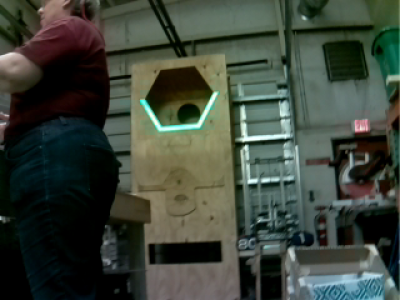target: (139, 92, 219, 131)
